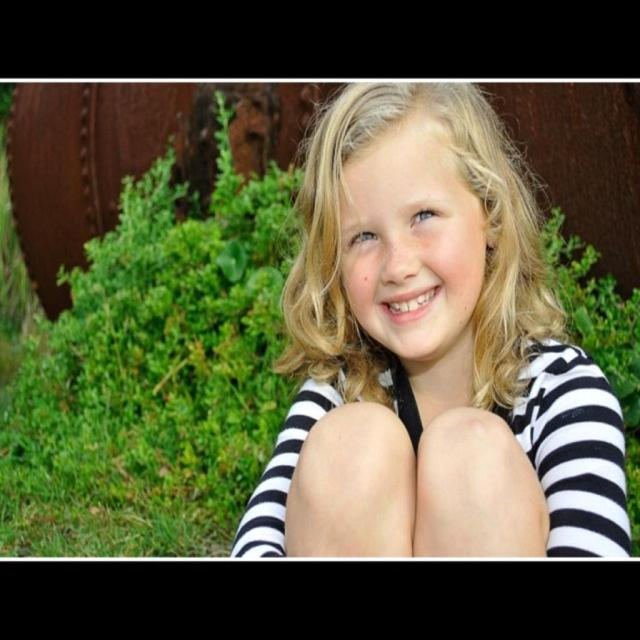Face: (322, 129, 497, 356)
